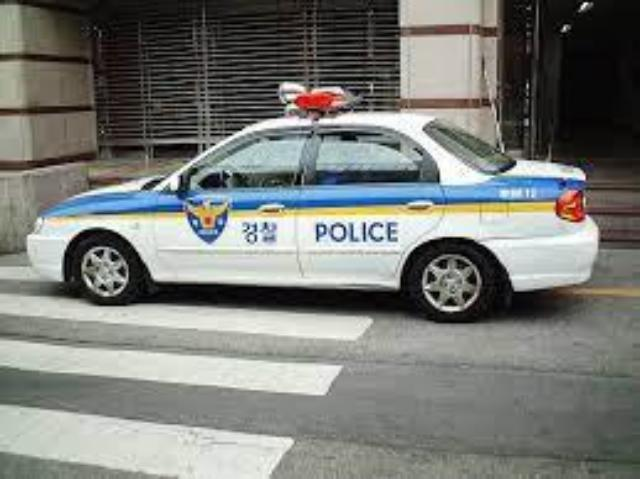police_car: (25, 84, 603, 316)
